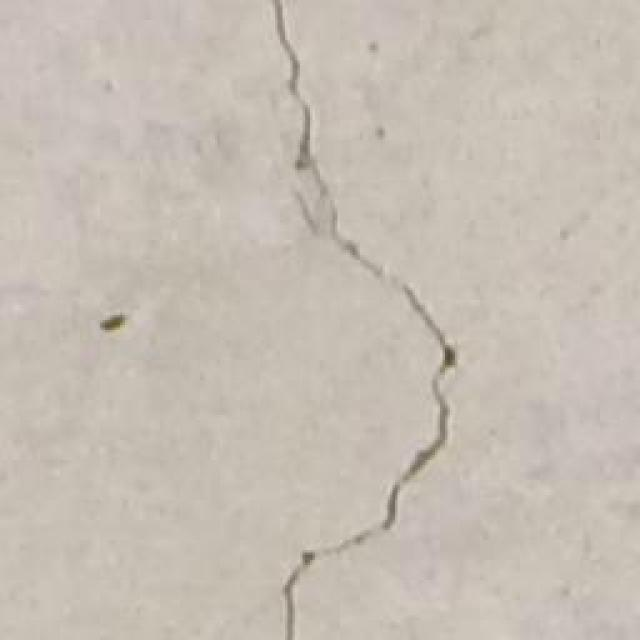concrete-crack: (270, 0, 458, 400), (282, 400, 450, 640)
